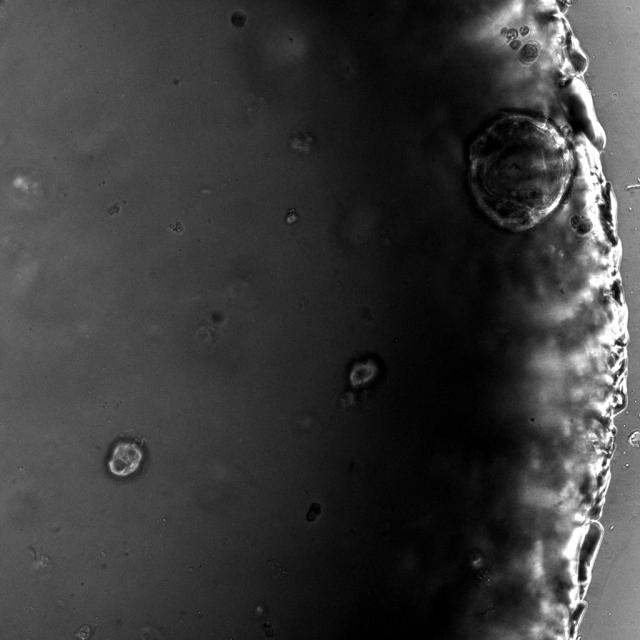organoid: (469, 113, 574, 232), (338, 353, 385, 409), (104, 435, 148, 481), (500, 24, 539, 64), (230, 10, 248, 28), (74, 624, 93, 639), (306, 503, 321, 521)
